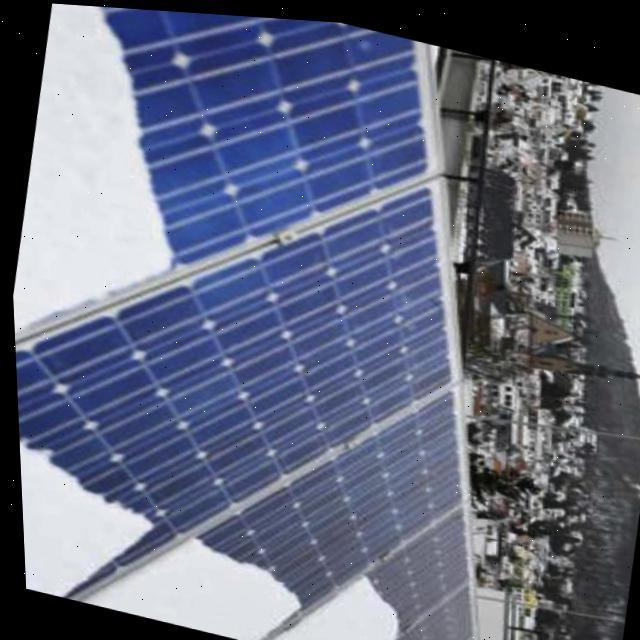Anomaly Solar Panel: (12, 174, 454, 598), (10, 3, 434, 342), (69, 378, 463, 640), (256, 496, 465, 640), (383, 575, 470, 640)
Snow: (10, 3, 175, 325), (49, 522, 294, 639), (15, 437, 159, 594), (242, 569, 383, 640)
